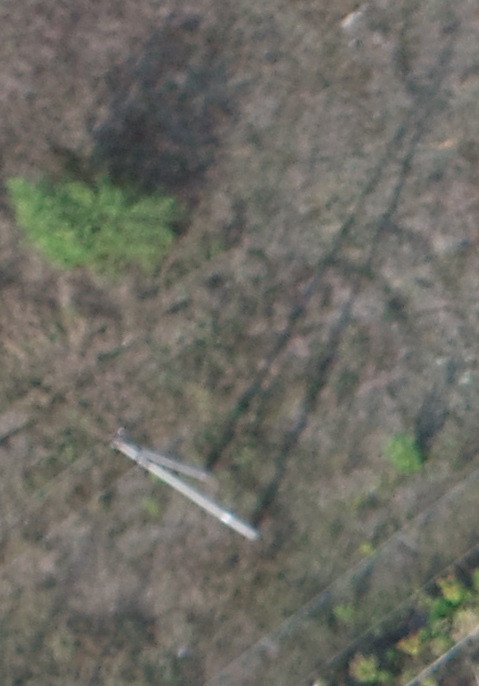opora: (98, 407, 290, 548)
